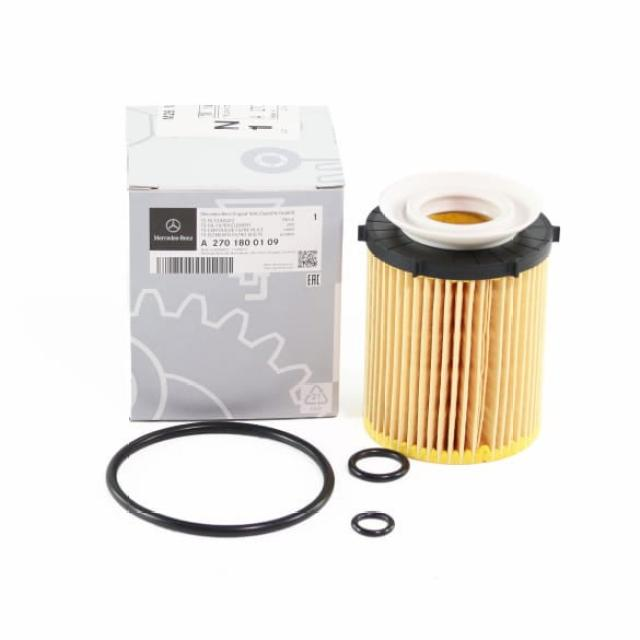oil_filter: (354, 167, 556, 474)
